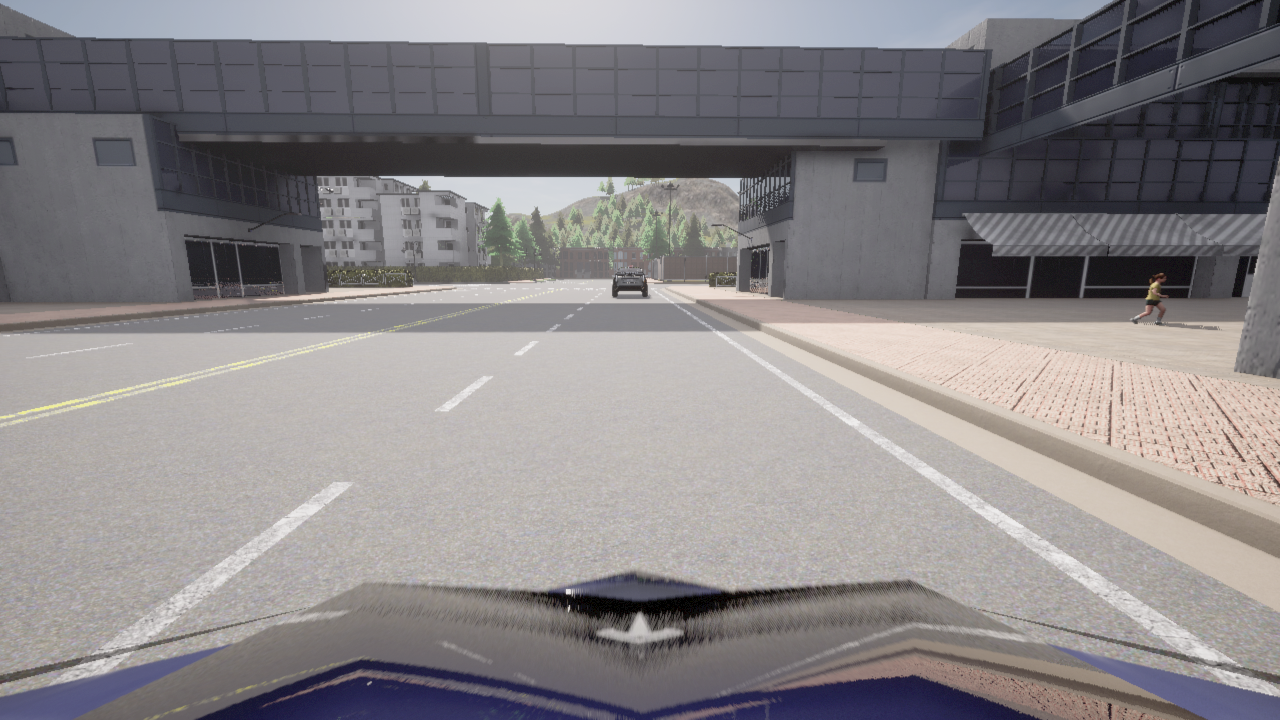cyclist: (0, 569, 1279, 719), (612, 267, 647, 296)
pedestrian: (1130, 274, 1168, 325)
